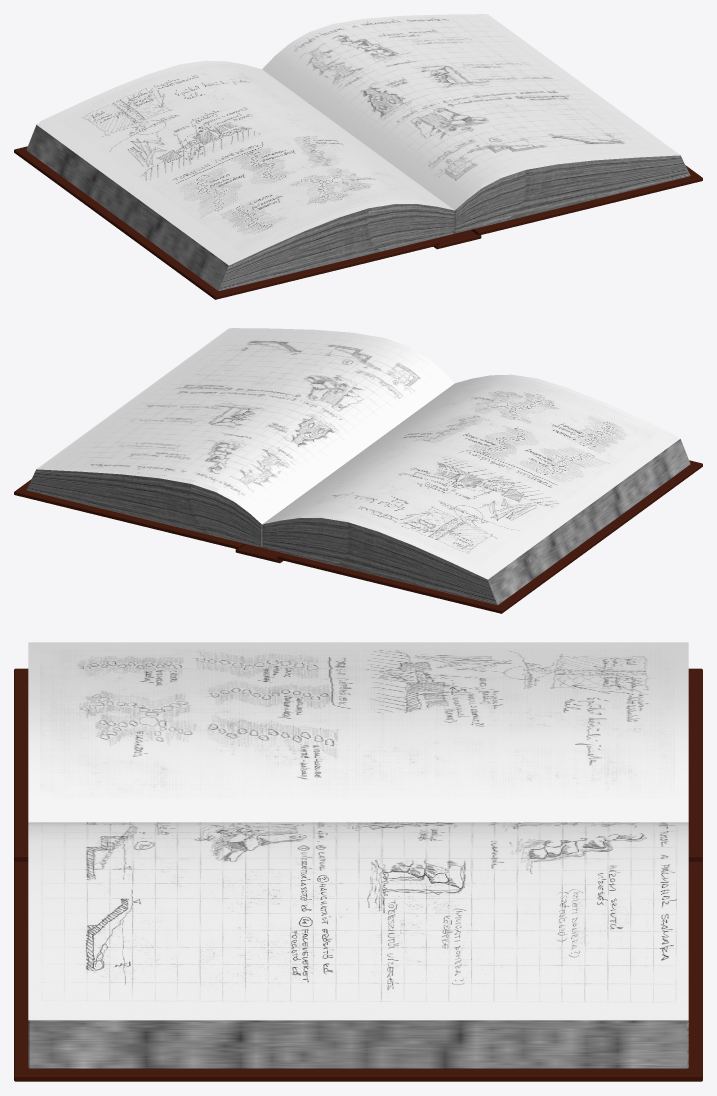
File: book-open.dae
The picture shows the model from 3 angles, top to bottom: view 1: azimuth 30°, elevation 25°; view 2: azimuth 150°, elevation 25°; view 3: azimuth 270°, elevation 25°; orthographic projection. The views are drawn at different scales.
Parts seen in each view (by area): view 1: page_right, page_left, morepages_left, morepages_right, cover_front, cover_back, cover-spine; view 2: page_right, page_left, morepages_left, morepages_right, cover_front, cover_back, cover-spine; view 3: page_right, page_left, morepages_right, cover_back, cover_front, cover-spine.
Boxes of the visible parts, left/top/right/bottom form: page_right: left=262, top=14, right=677, bottom=210; page_left: left=39, top=60, right=454, bottom=262; morepages_left: left=26, top=123, right=454, bottom=291; morepages_right: left=454, top=14, right=690, bottom=233; cover_front: left=14, top=146, right=439, bottom=299; cover_back: left=471, top=165, right=702, bottom=235; cover-spine: left=433, top=230, right=481, bottom=249; page_right: left=39, top=328, right=454, bottom=524; page_left: left=262, top=374, right=677, bottom=576; morepages_left: left=262, top=437, right=690, bottom=605; morepages_right: left=26, top=328, right=262, bottom=547; cover_front: left=277, top=460, right=702, bottom=613; cover_back: left=14, top=479, right=245, bottom=549; cover-spine: left=235, top=544, right=283, bottom=563; page_right: left=28, top=822, right=688, bottom=1016; page_left: left=28, top=642, right=688, bottom=822; morepages_right: left=28, top=1017, right=688, bottom=1068; cover_back: left=14, top=888, right=702, bottom=1081; cover_front: left=14, top=668, right=702, bottom=861; cover-spine: left=14, top=861, right=702, bottom=888.
Bounding box in the file's own units: 0.434 × 0.31 × 0.0499.
6 materials, 3 textured.
